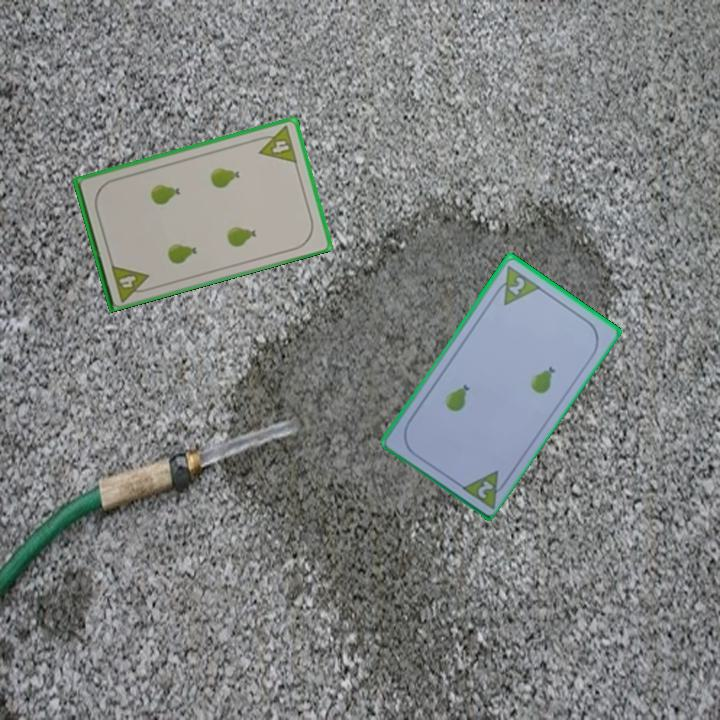2p: (489, 261, 543, 308), (474, 477, 497, 501)
4p: (252, 122, 300, 166), (107, 260, 154, 304)
